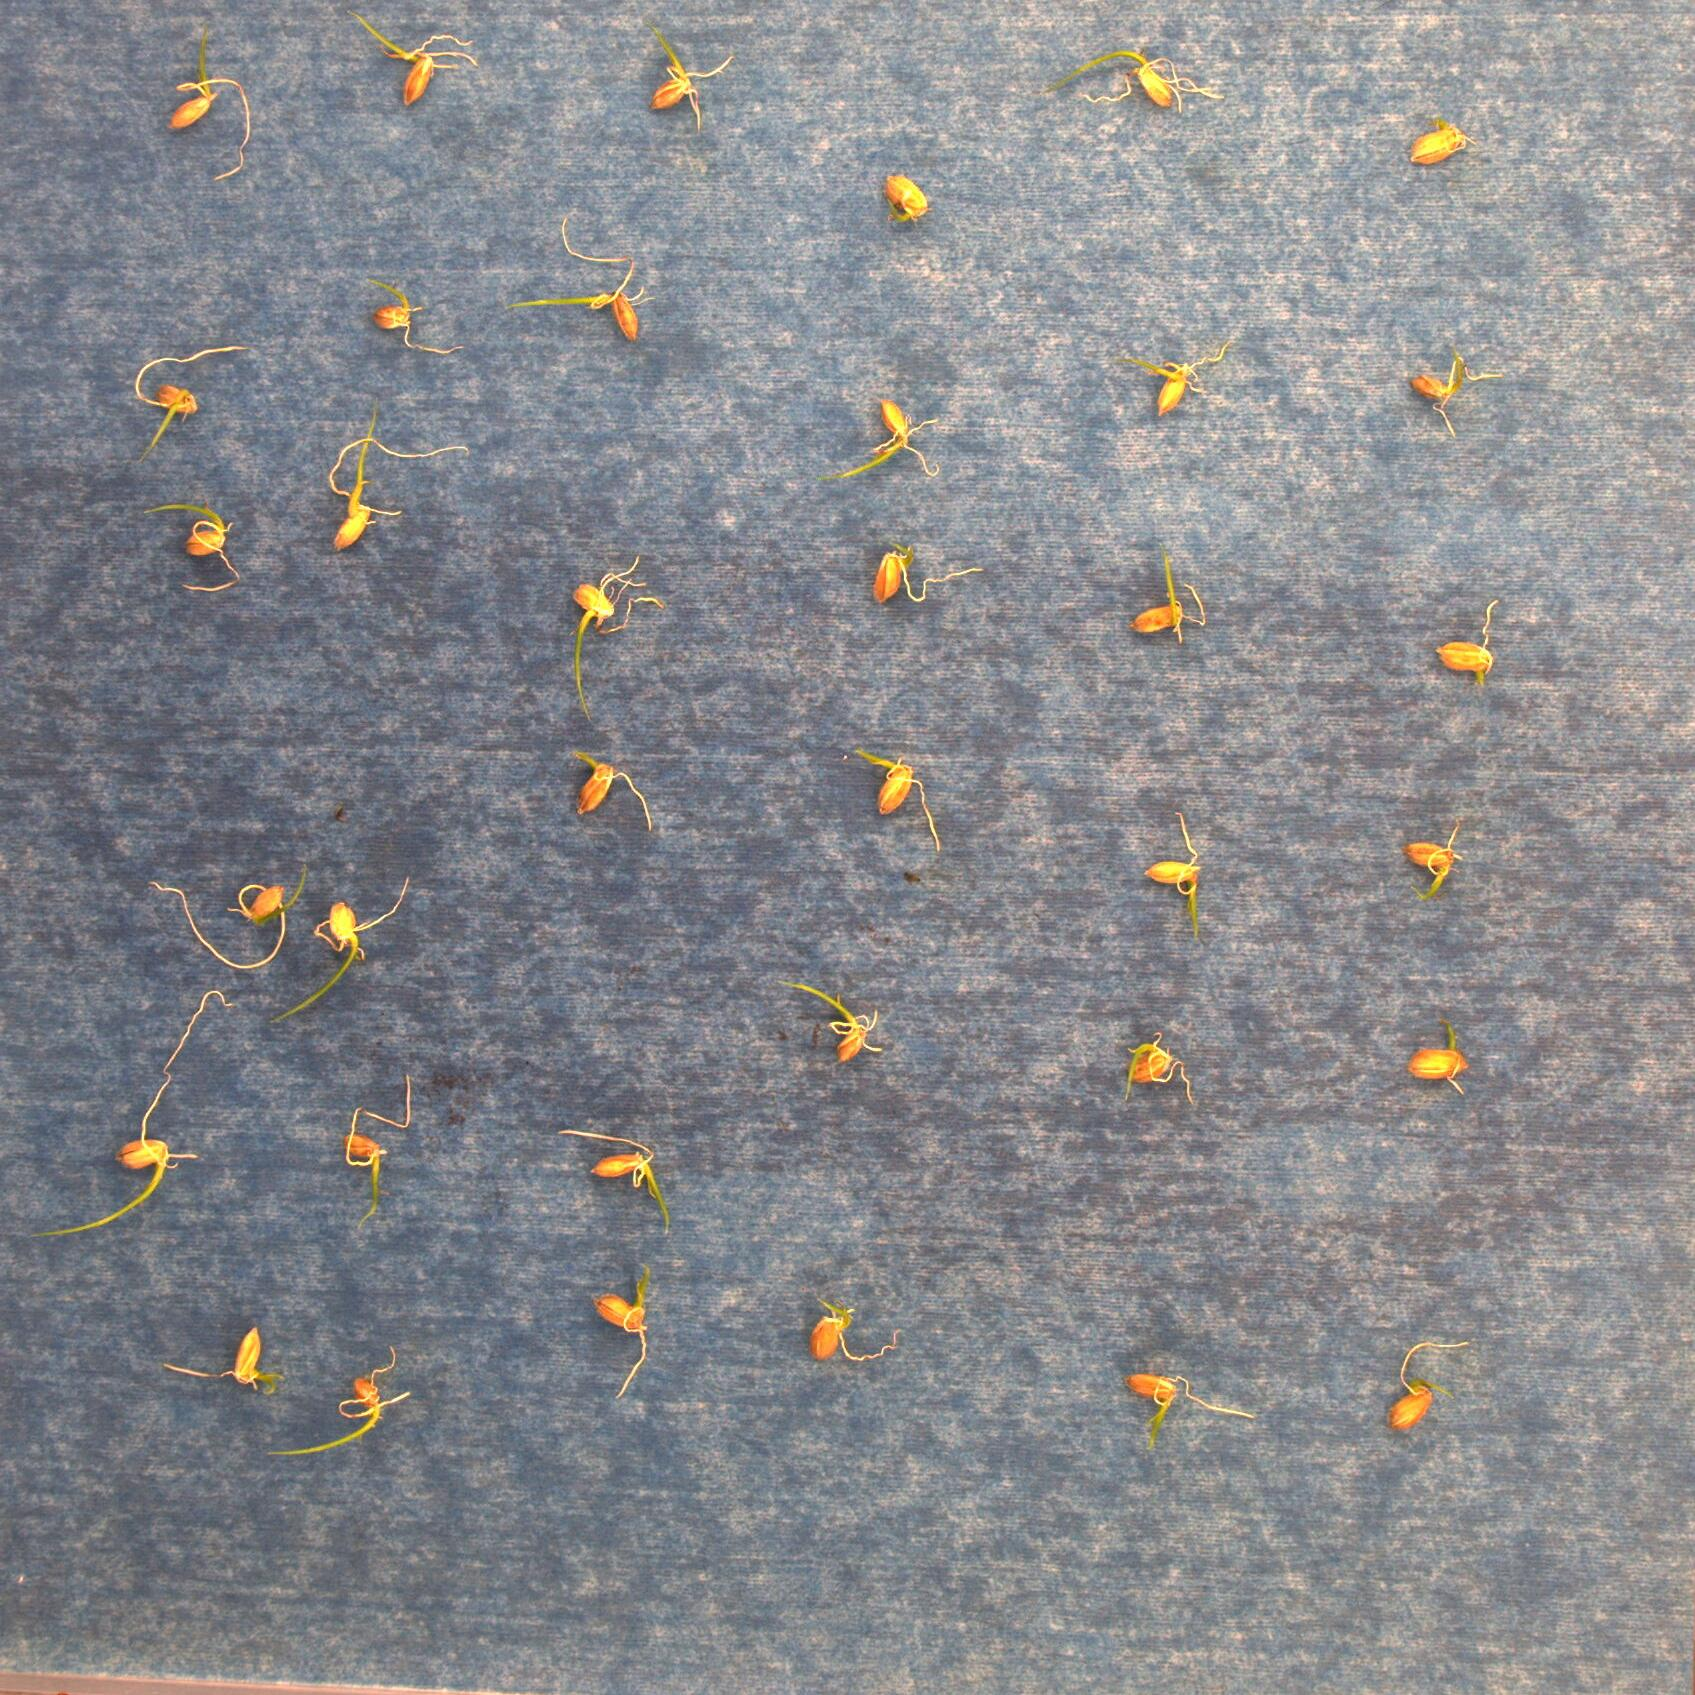not sprout: (1436, 599, 1499, 692), (1402, 120, 1470, 169), (883, 174, 930, 230)
sprout: (25, 992, 234, 1243), (320, 408, 473, 554), (267, 874, 407, 1029), (560, 556, 667, 726), (508, 217, 653, 341), (143, 861, 301, 973), (267, 1346, 410, 1462), (129, 348, 256, 467), (1043, 43, 1226, 113), (560, 1121, 672, 1234), (348, 11, 480, 104), (172, 31, 255, 180), (335, 1069, 413, 1225), (1125, 332, 1243, 421), (1125, 1367, 1251, 1450), (165, 1318, 286, 1400), (775, 976, 883, 1065), (1408, 341, 1507, 436), (851, 748, 944, 849), (841, 397, 948, 483), (1142, 810, 1208, 950), (143, 501, 239, 594), (650, 33, 736, 137), (593, 1265, 655, 1400), (1386, 1340, 1476, 1430), (573, 745, 661, 837), (365, 275, 464, 355), (872, 542, 986, 601), (1128, 557, 1206, 643), (806, 1296, 903, 1361), (1124, 1029, 1198, 1108), (1403, 1018, 1470, 1102), (1405, 813, 1465, 899)
